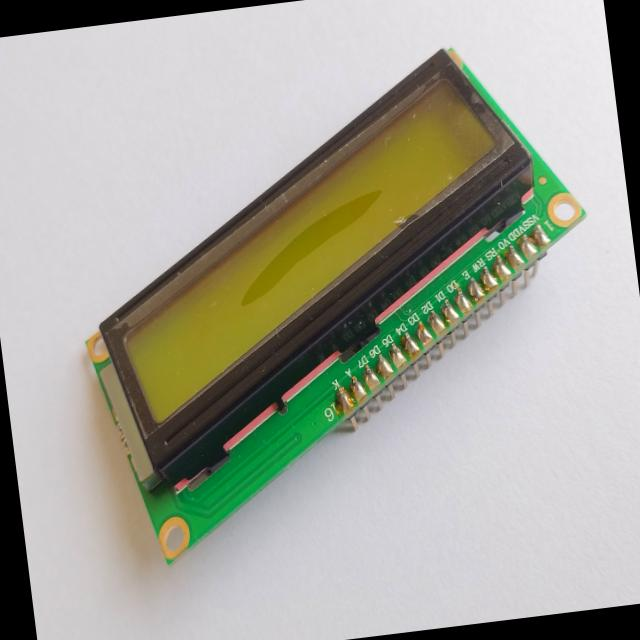lcd: (45, 32, 629, 585)
